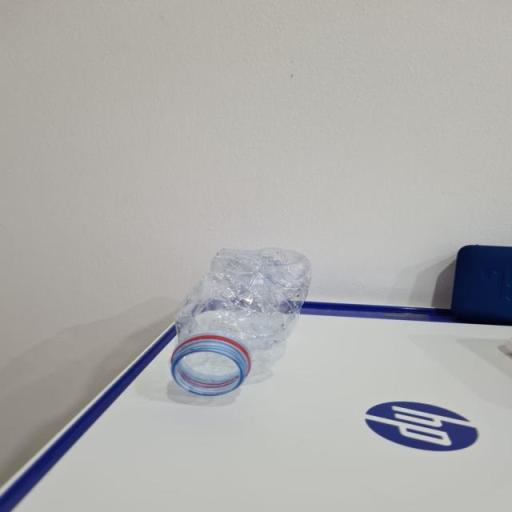plastic: (165, 246, 319, 396)
